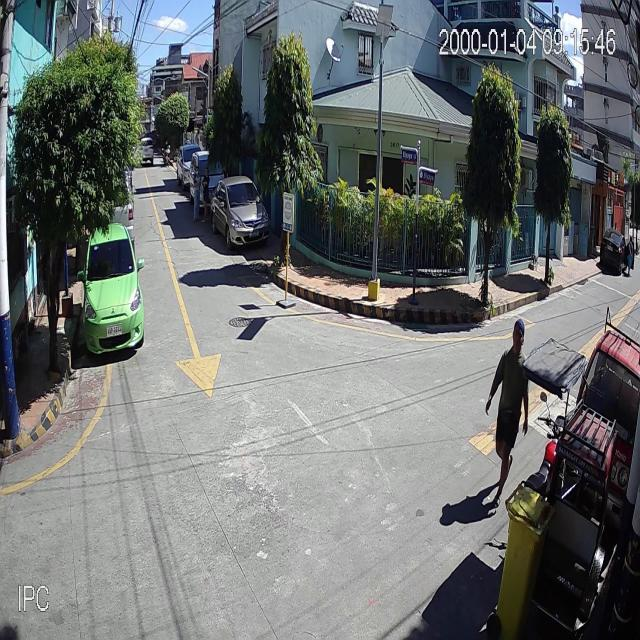walking: (489, 315, 531, 517)
